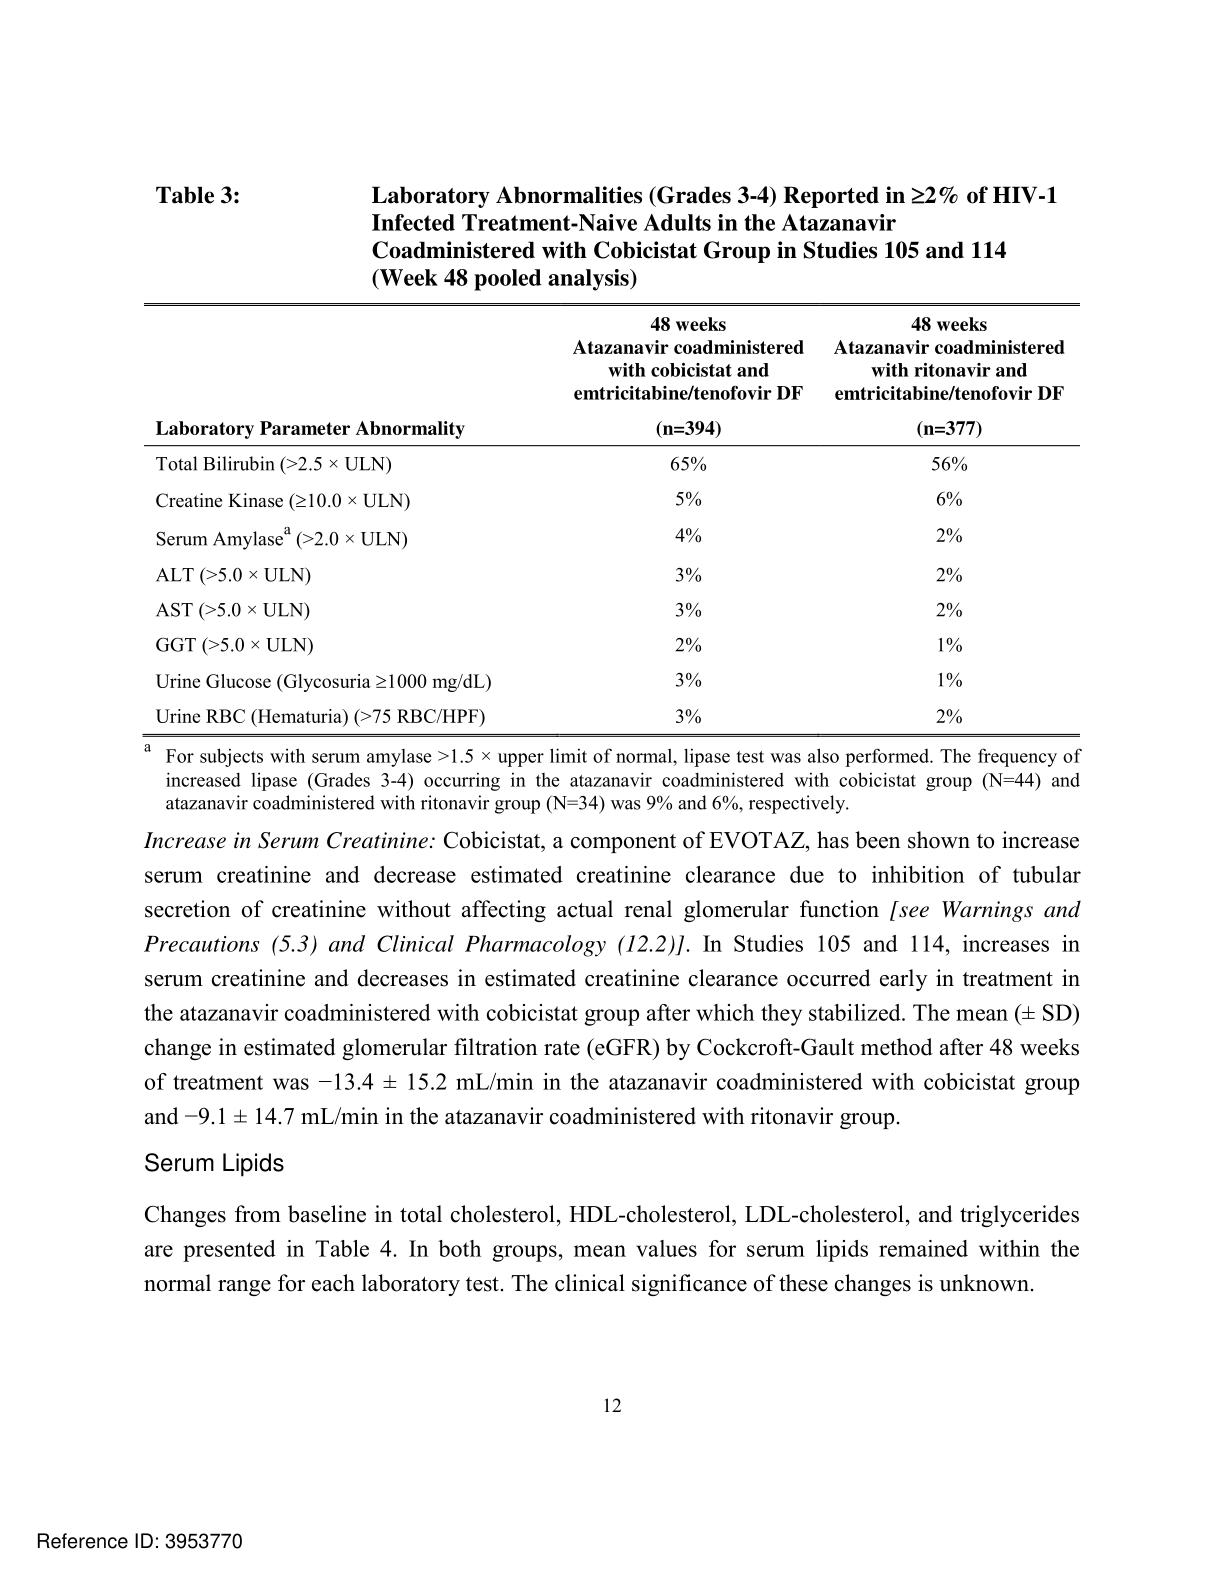partial_lined: (145, 301, 1083, 739)
